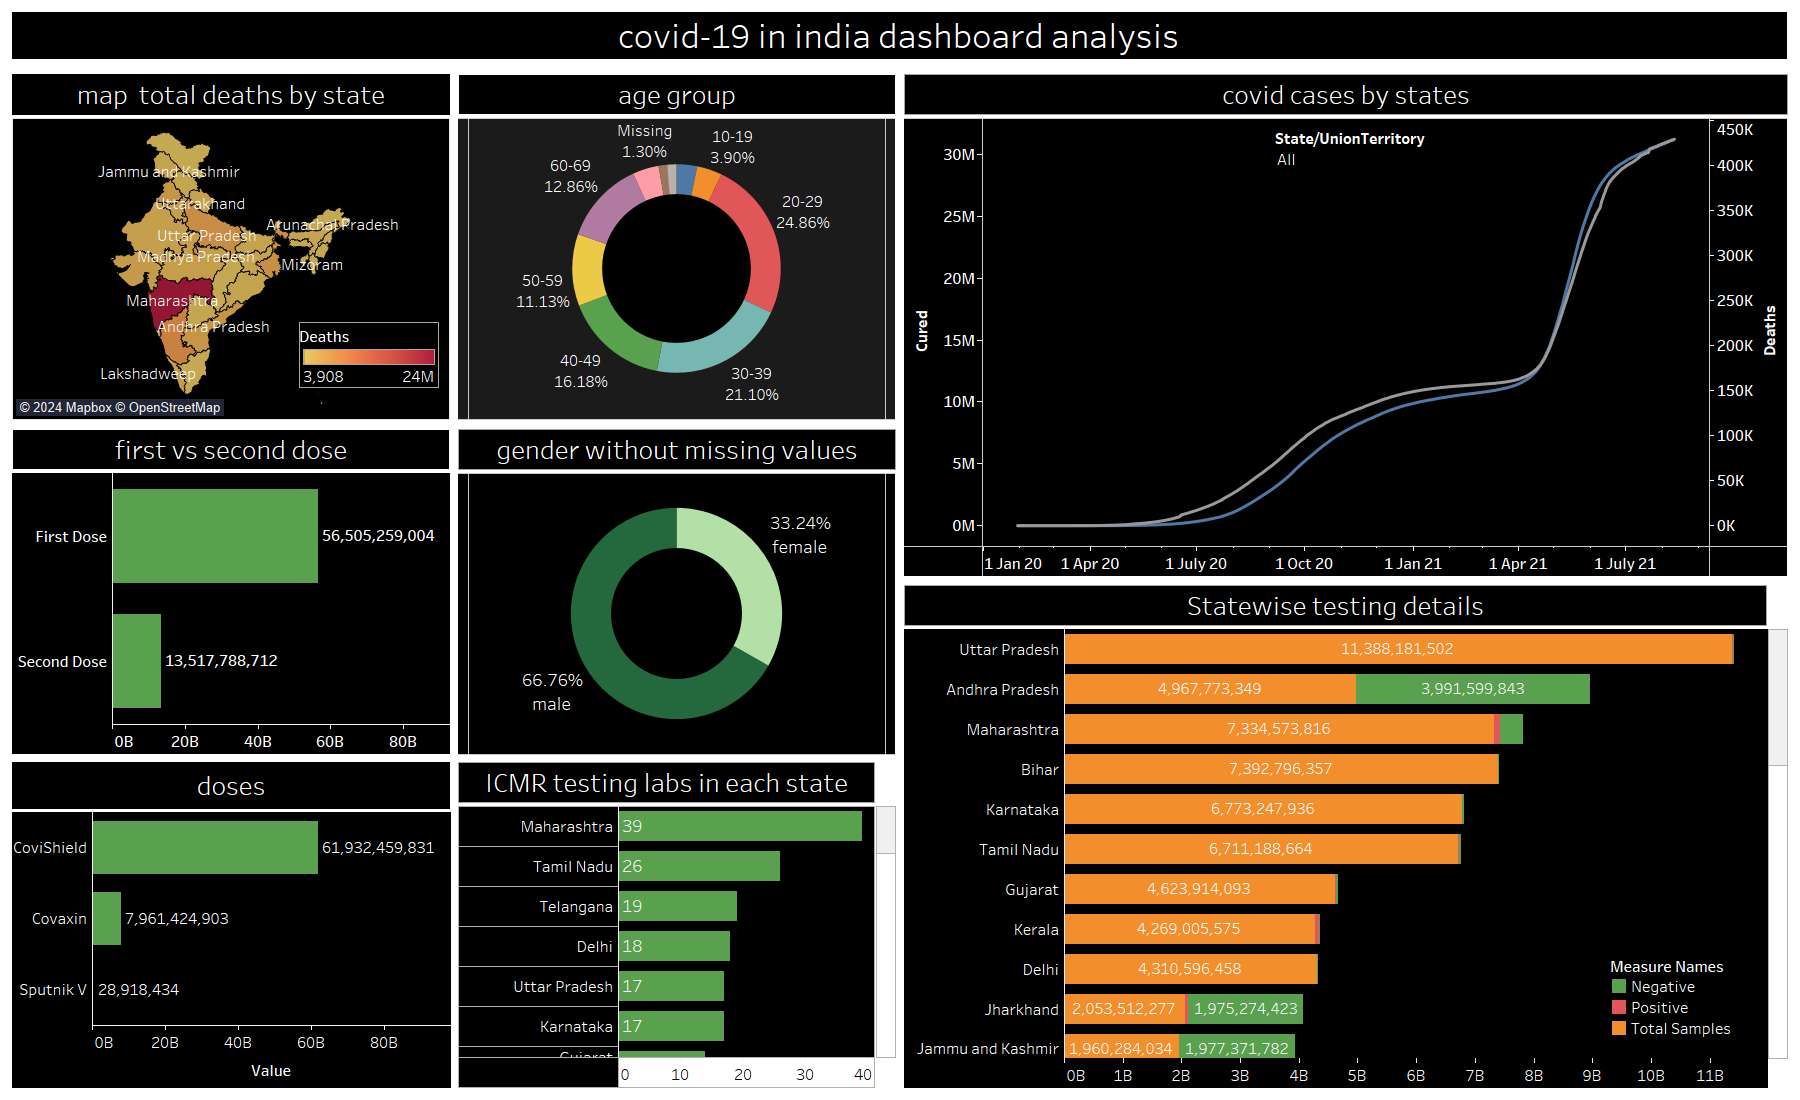

This screenshot's page, from the dashboard's own definition file:
{"tool":"tableau","page":{"name":"Dashboard 1","canvas":[1800,1100],"ordinal":0},"visuals":[{"type":"worksheet","title":"Title","mark":"Automatic","box":[8,8,1784,62]},{"type":"worksheet","title":"map  total deaths by state","mark":"Automatic","box":[8,70,446,354.5]},{"type":"worksheet","title":"age group","mark":"Pie","rows":["Calculation_402227789190004737","Calculation_402227789190004737"],"box":[454,70,446,354.5]},{"type":"worksheet","title":"covid cases by states","mark":"Automatic","rows":["Cured","Deaths"],"cols":["Date"],"box":[900,70,892,511]},{"type":"filter","title":"covid cases by states","param":"[federated.17k9gg10l3dxqu1e3g11f1foass9].[none:State/UnionTerritory:nk]","box":[1275,127,168,61]},{"type":"legend","title":"map  total deaths by state","param":"[federated.17k9gg10l3dxqu1e3g11f1foass9].[sum:Deaths:qk]","box":[299,322,140,88]},{"type":"worksheet","title":"first vs second dose ","mark":"Automatic","box":[8,424.5,446,333.8]},{"type":"worksheet","title":"gender without missing values","mark":"Pie","rows":["Calculation_402227789198086147","Calculation_402227789198086147"],"box":[454,424.5,446,333.8]},{"type":"worksheet","title":"Statewise testing details","mark":"Automatic","rows":["State"],"box":[900,581,892,511]},{"type":"worksheet","title":"doses","mark":"Automatic","box":[8,758.3,446,333.8]},{"type":"worksheet","title":"ICMR testing labs in each state","mark":"Automatic","rows":["state"],"cols":["lab"],"box":[454,758.3,446,333.8]},{"type":"legend","title":"Statewise testing details","param":"[federated.1kdhvb40tiofld18lvpgw0ro3gm3].[:Measure Names]","box":[1609,954,140,85]}]}

Visuals, with their boxes in screenshot pixels (x1, y1, x2, y2), scaled from the page's 1800x1100 canvas onto the 1800x1100 screenshot:
"Title" worksheet: crop(8, 8, 1792, 70)
"map  total deaths by state" worksheet: crop(8, 70, 454, 424)
"age group" worksheet (Pie marks): crop(454, 70, 900, 424)
"covid cases by states" worksheet: crop(900, 70, 1792, 581)
"covid cases by states" filter: crop(1275, 127, 1443, 188)
"map  total deaths by state" legend: crop(299, 322, 439, 410)
"first vs second dose " worksheet: crop(8, 424, 454, 758)
"gender without missing values" worksheet (Pie marks): crop(454, 424, 900, 758)
"Statewise testing details" worksheet: crop(900, 581, 1792, 1092)
"doses" worksheet: crop(8, 758, 454, 1092)
"ICMR testing labs in each state" worksheet: crop(454, 758, 900, 1092)
"Statewise testing details" legend: crop(1609, 954, 1749, 1039)
